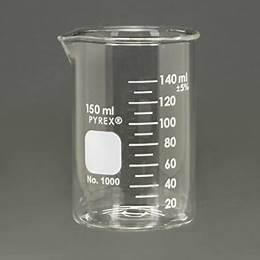Beaker: (48, 12, 202, 231)
